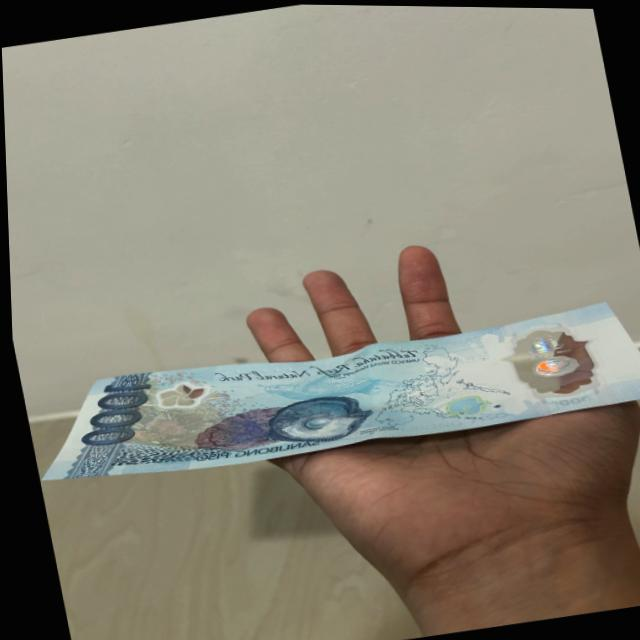clear_window: (488, 312, 604, 405)
sampaguita: (152, 373, 207, 410)
value: (63, 373, 159, 457)
